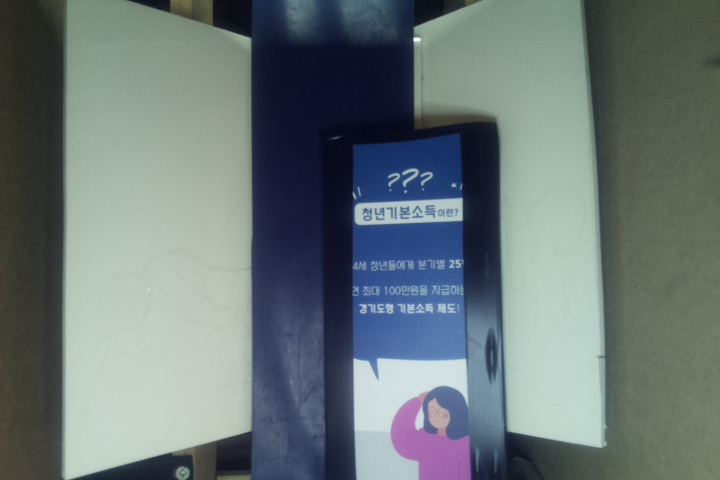book: (319, 120, 507, 480)
